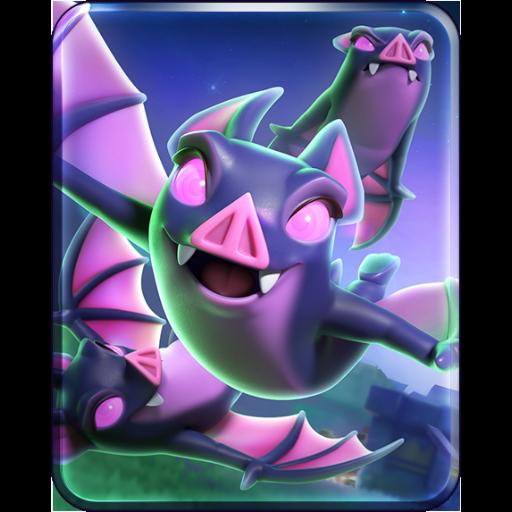bats-evo: (66, 16, 452, 504)
